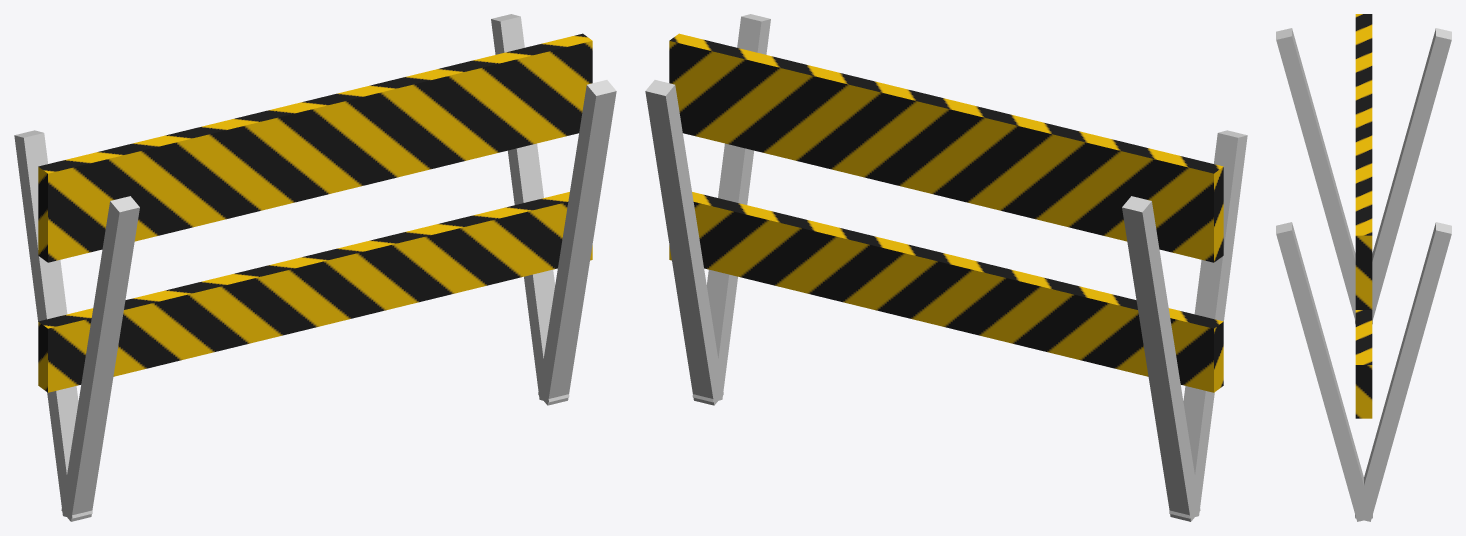
Rendered from barrier.glb.
3 views of the same model, side by side, from view 1: azimuth 30°, elevation 25°; view 2: azimuth 150°, elevation 25°; view 3: azimuth 270°, elevation 25° (orthographic). The views are drawn at different scales.
Visible parts, largest first — view 1: barrier; view 2: barrier; view 3: barrier.
Part boxes in pixels (x1,y1,x2,y2): barrier: (14, 14, 616, 521); barrier: (645, 14, 1247, 521); barrier: (1276, 14, 1451, 521).
Bounding box in the file's own units: 1.6 × 0.9956 × 0.5358.
Materials: 2 (1 with a texture image).
